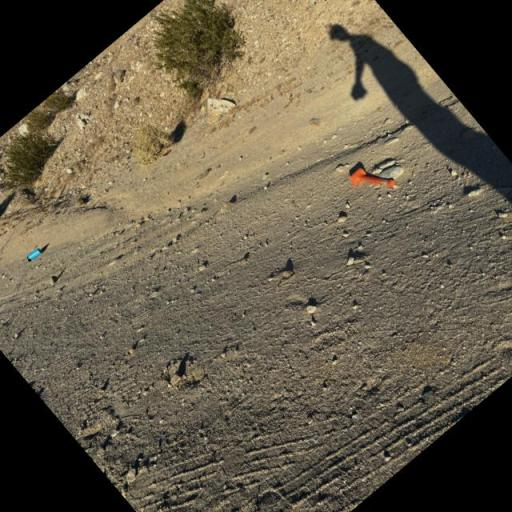bottle: (20, 242, 44, 265)
mallet: (342, 150, 402, 210)
